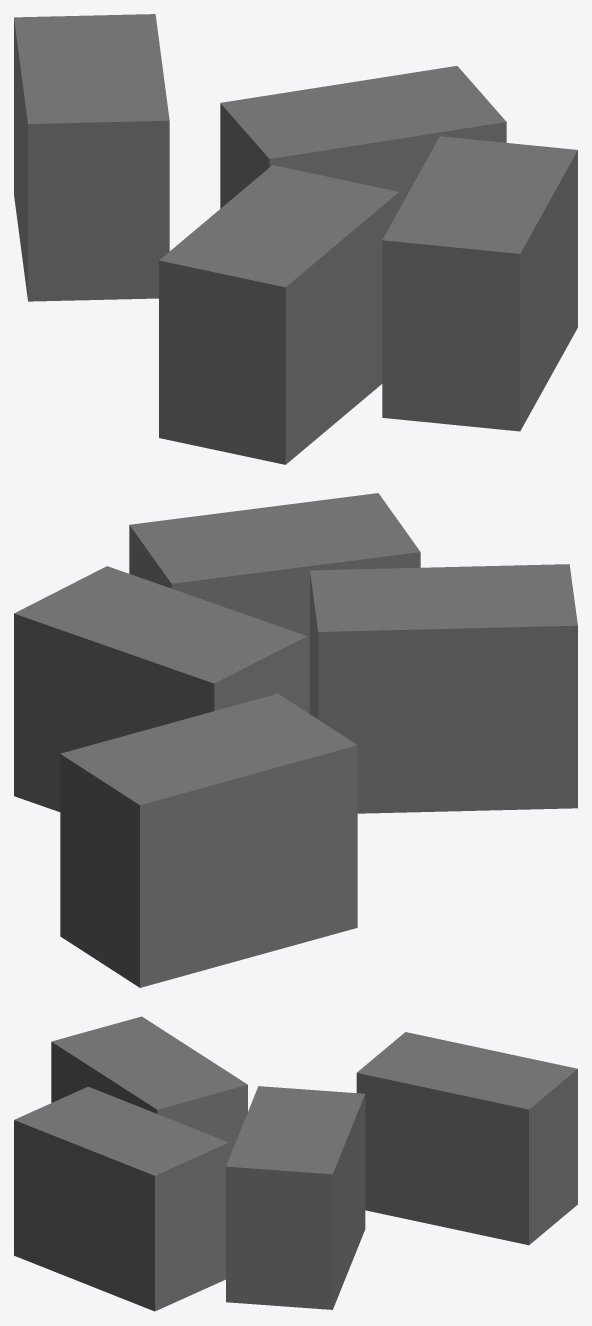
File: brazier_02.fbx
3 renders of one model, top to bottom at view 1: azimuth 30°, elevation 25°; view 2: azimuth 150°, elevation 25°; view 3: azimuth 270°, elevation 25°, orthographic. The views are drawn at different scales.
Visible parts, largest first — view 1: brazier_02; view 2: brazier_02; view 3: brazier_02.
Boxes of the visible parts, bbox=[...] form: brazier_02: bbox=[14, 14, 577, 464]; brazier_02: bbox=[14, 493, 577, 987]; brazier_02: bbox=[14, 1016, 577, 1311].
Size of the model in its own units: 1.78 by 0.7053 by 2.66.
